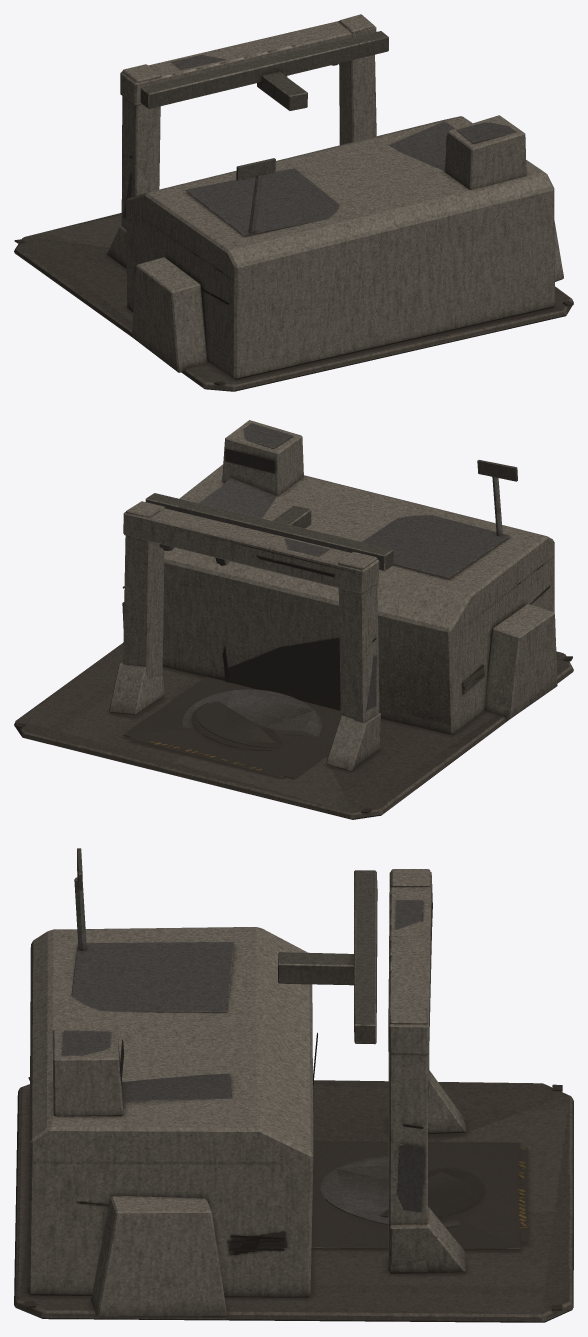
File: ord_advbotlab_wreck.fbx
The picture shows the model from 3 angles, top to bottom: view 1: azimuth 30°, elevation 25°; view 2: azimuth 150°, elevation 25°; view 3: azimuth 270°, elevation 25°; orthographic projection. The views are drawn at different scales.
Parts seen in each view (by area): view 1: base_bar, radar_bar; view 2: base_bar, radar_bar; view 3: base_bar.
Part boxes in pixels (<box>): base_bar: <box>14,14,573,391</box>; radar_bar: <box>236,158,275,180</box>; base_bar: <box>14,420,573,819</box>; radar_bar: <box>477,460,517,481</box>; base_bar: <box>14,869,573,1322</box>.
Size of the model in its own units: 4088 by 2283 by 3948.
Materials: 2 (2 with a texture image).
